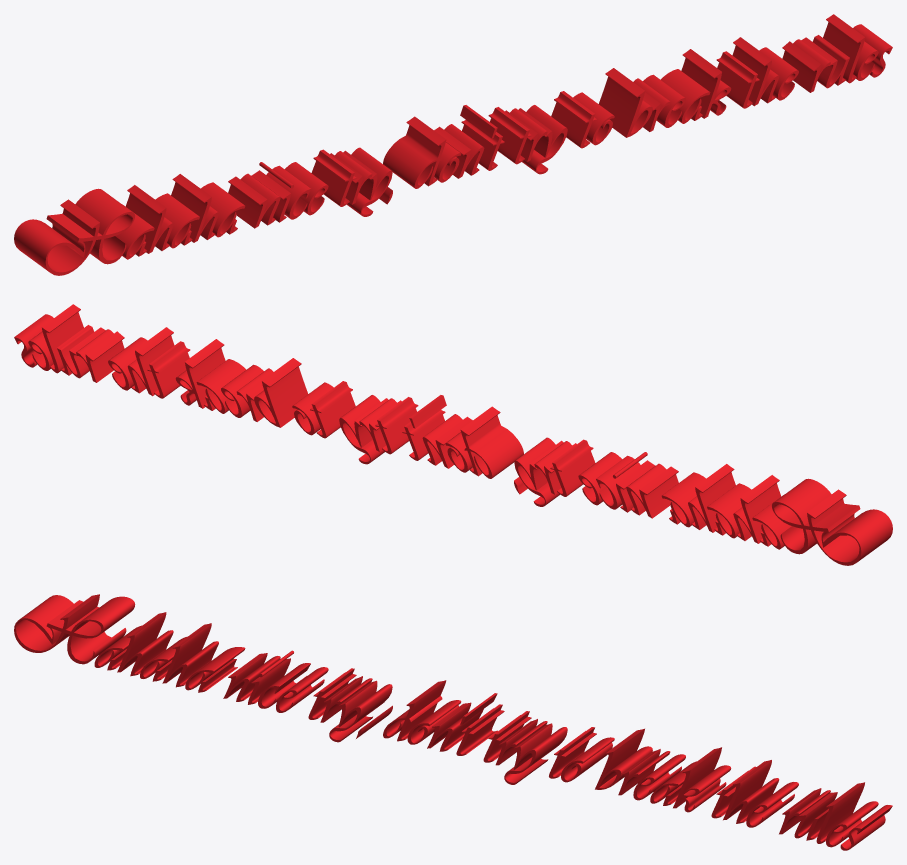
The model's file is WrittingForTheMaze.fbx.
The picture shows the model from 3 angles, top to bottom: view 1: azimuth 30°, elevation 25°; view 2: azimuth 150°, elevation 25°; view 3: azimuth 330°, elevation 25°; orthographic projection.
Visible parts, largest first — view 1: node_id33; view 2: node_id33; view 3: node_id33.
Part boxes in pixels (x1,y1,x2,y2): node_id33: (14,14,892,275); node_id33: (14,304,892,565); node_id33: (14,594,892,850).
Bounding box in the file's own units: 0.6933 × 0.0493 × 0.0448.
